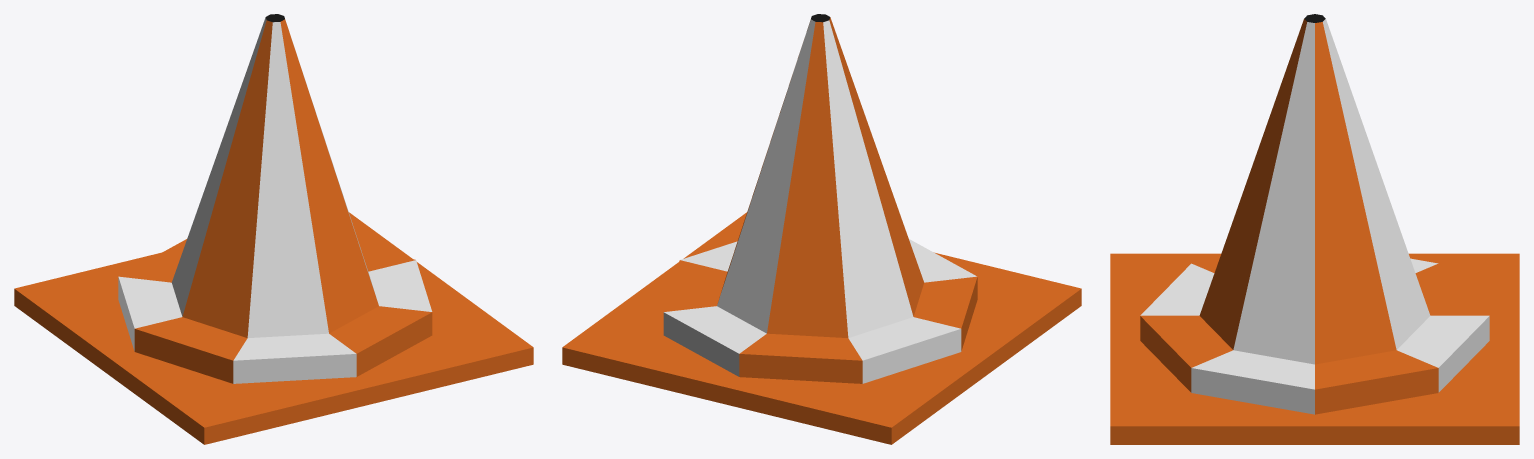
3 views of the same model, side by side, from view 1: azimuth 30°, elevation 25°; view 2: azimuth 150°, elevation 25°; view 3: azimuth 270°, elevation 25° (orthographic). The views are drawn at different scales.
Parts seen in each view (by area): view 1: cone; view 2: cone; view 3: cone.
Boxes of the visible parts, x1,y1,x2,y2 form: cone: (14, 14, 533, 444); cone: (562, 14, 1081, 444); cone: (1110, 14, 1519, 444).
Size of the model in its own units: 44.1 by 40.52 by 44.1.
